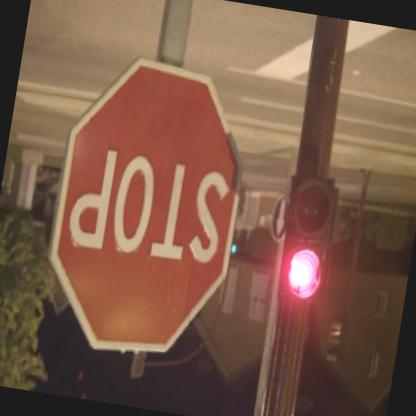stop: (33, 49, 262, 367)
trafficlight: (274, 183, 340, 311)
